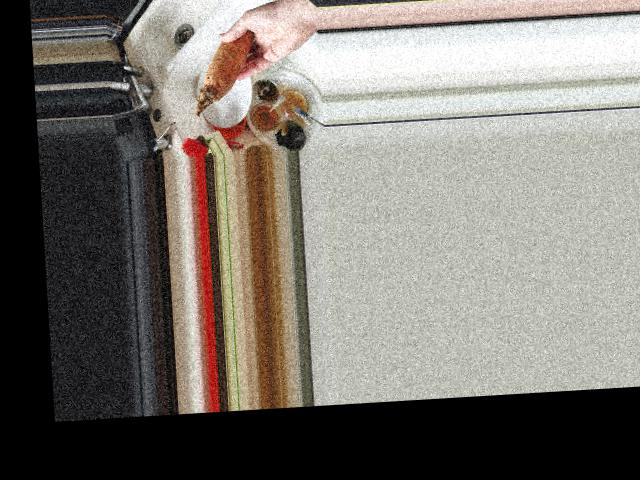sweet_potato: (189, 22, 263, 118)
